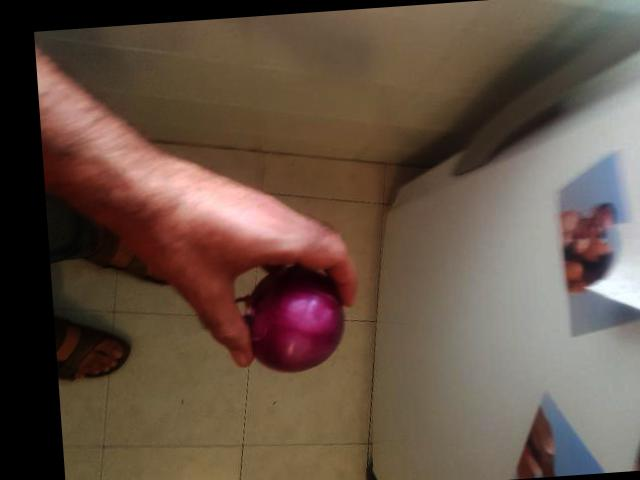onion: (238, 267, 348, 370)
